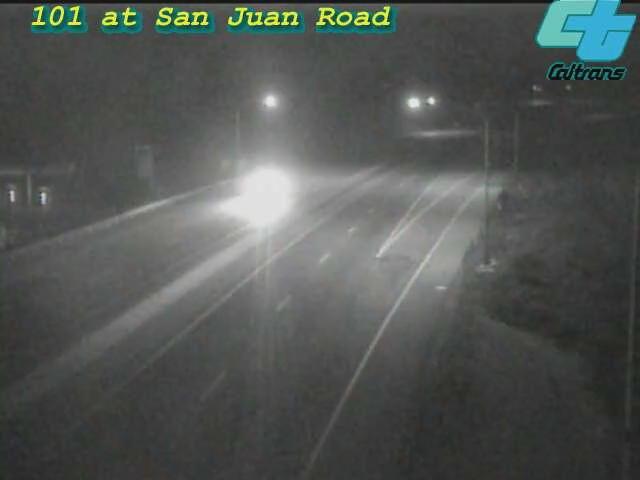vehicle: (221, 151, 301, 231)
